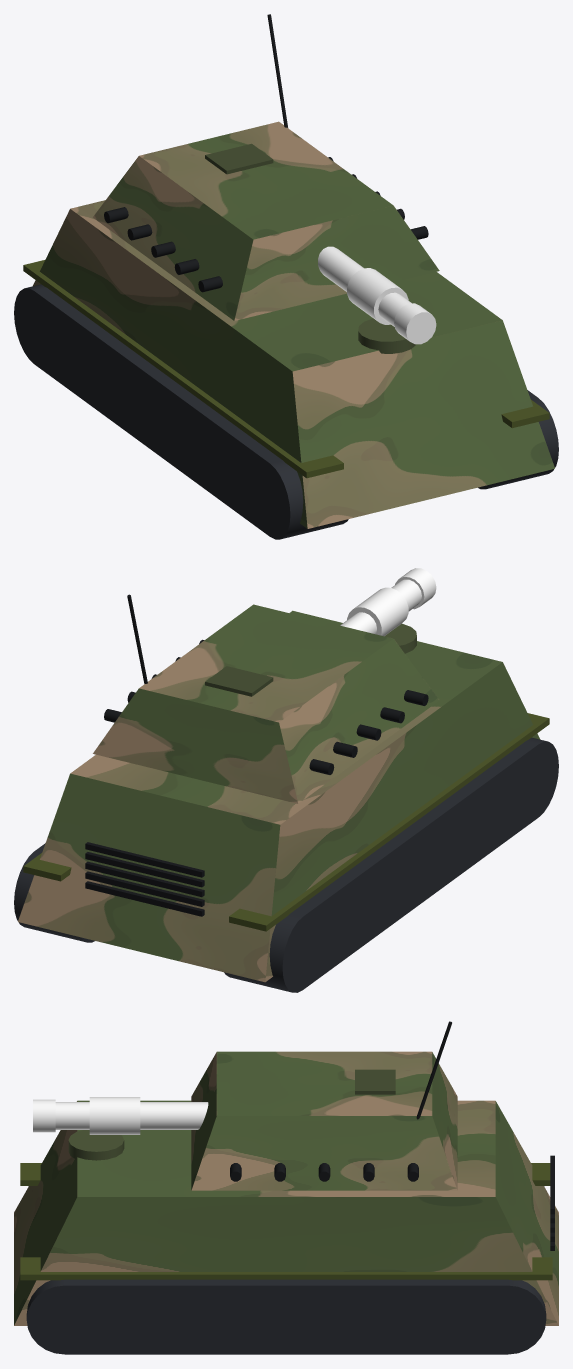
3 renders of one model, top to bottom at view 1: azimuth 30°, elevation 25°; view 2: azimuth 150°, elevation 25°; view 3: azimuth 270°, elevation 25°, orthographic. The views are drawn at different scales.
Parts seen in each view (by area): view 1: 车体, 无人炮塔, 左履带, 左挡泥板, 左主动轮.002, 主炮管, 左主动轮.001, 左主动轮, 抽烟器, 驾驶员舱盖, 车长瞄准镜, 炮口装置 (+2 smaller); view 2: 车体, 无人炮塔, 左履带, 左挡泥板, 左主动轮.001, 左主动轮.002, 抽烟器, 车长瞄准镜, 主炮管, 发动机格栅.003, 发动机格栅.004, 发动机格栅.005 (+6 smaller); view 3: 车体, 无人炮塔, 右履带, 右挡泥板, 右主动轮.002, 右主动轮.001, 右主动轮, 主炮管, 抽烟器, 驾驶员舱盖, 车长瞄准镜, 左挡泥板 (+2 smaller).
Boxes of the visible parts, x1,y1,x2,y2 form: 车体: [33, 200, 554, 528]; 无人炮塔: [93, 121, 439, 320]; 左履带: [34, 288, 282, 536]; 左挡泥板: [23, 260, 343, 478]; 左主动轮.002: [250, 460, 348, 539]; 主炮管: [318, 246, 433, 341]; 左主动轮.001: [14, 284, 54, 365]; 左主动轮: [132, 374, 172, 445]; 抽烟器: [347, 268, 408, 324]; 驾驶员舱盖: [358, 318, 415, 353]; 车长瞄准镜: [205, 143, 273, 174]; 炮口装置: [394, 303, 436, 344]; 车体: [18, 610, 540, 982]; 无人炮塔: [93, 604, 439, 803]; 左履带: [290, 741, 538, 989]; 左挡泥板: [229, 713, 549, 931]; 左主动轮.001: [224, 914, 322, 992]; 左主动轮.002: [518, 737, 558, 819]; 抽烟器: [347, 587, 408, 636]; 车长瞄准镜: [205, 666, 273, 696]; 主炮管: [340, 579, 421, 634]; 发动机格栅.003: [85, 861, 204, 897]; 发动机格栅.004: [85, 852, 204, 887]; 发动机格栅.005: [85, 842, 204, 877]; 车体: [14, 1100, 558, 1325]; 无人炮塔: [191, 1051, 457, 1190]; 右履带: [64, 1279, 508, 1354]; 右挡泥板: [20, 1257, 552, 1280]; 右主动轮.002: [26, 1279, 102, 1354]; 右主动轮.001: [470, 1279, 546, 1354]; 右主动轮: [248, 1280, 324, 1354]; 主炮管: [55, 1102, 208, 1129]; 抽烟器: [89, 1097, 140, 1134]; 驾驶员舱盖: [68, 1130, 124, 1160]; 车长瞄准镜: [355, 1069, 395, 1094]; 左挡泥板: [20, 1163, 550, 1185].
Size of the model in its own units: 2.3 by 2.64 by 4.3.
21 materials, 1 textured.
